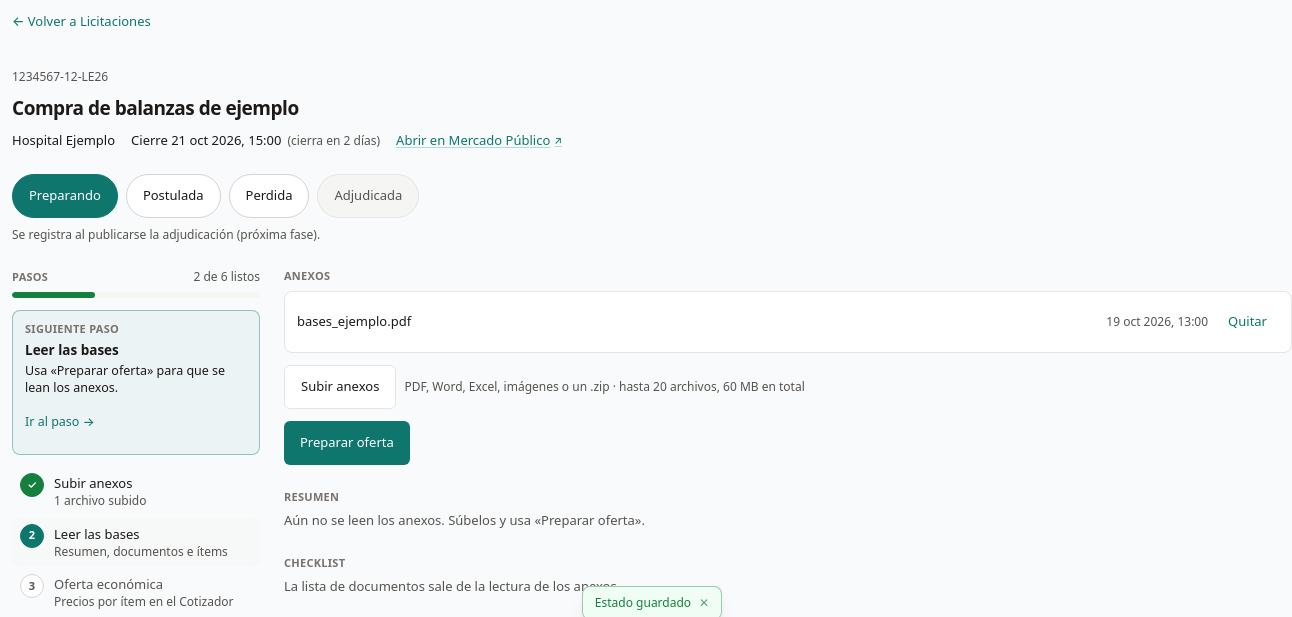
TenderPage — «Quitar anexo» › says a refusal in Spanish and keeps the key only while the removal may have run
Click the button with aria-label "Quitar bases_ejemplo.pdf" at (1248,322), box [1216,300,1279,344]
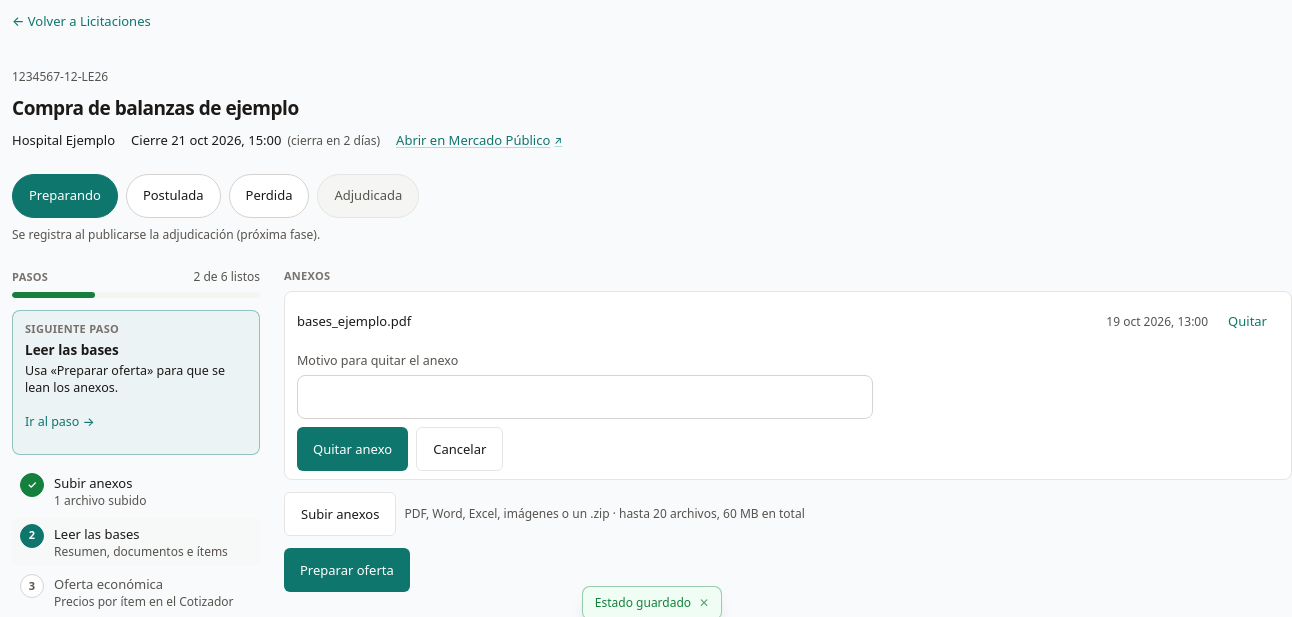
Type "Duplicado" into the field labelled "Motivo para quitar el anexo" at (585,397), box [297,375,873,419]
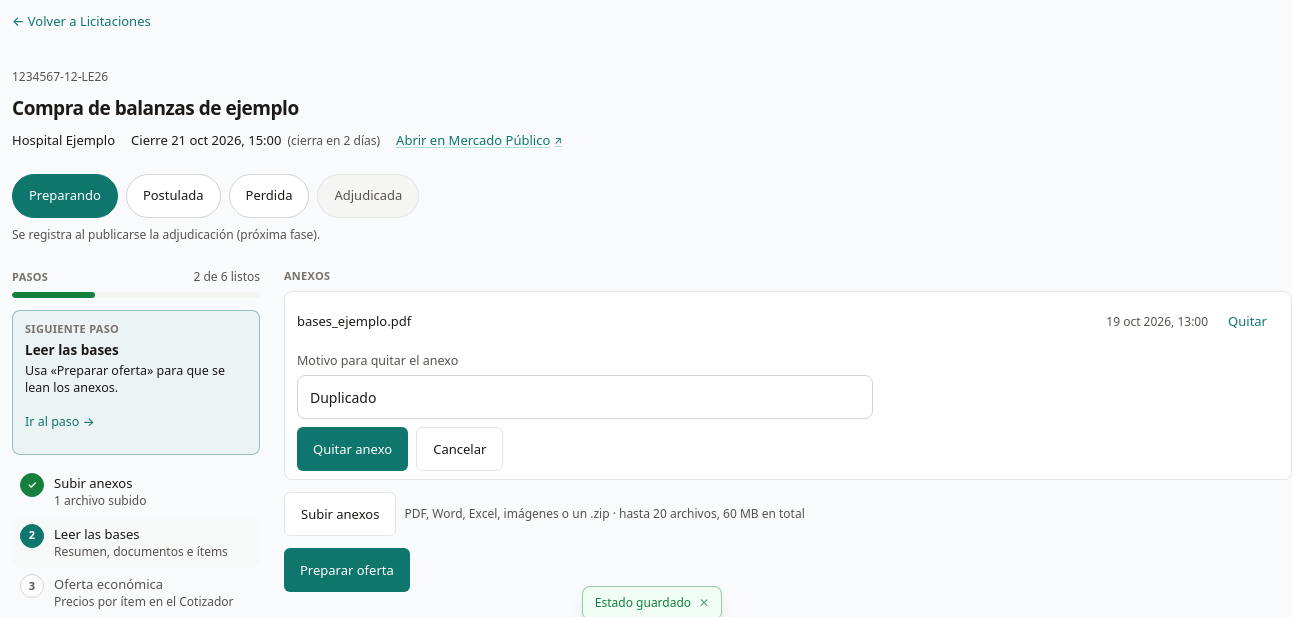
Click the button "Quitar anexo" at (353,449), box [297,427,408,471]
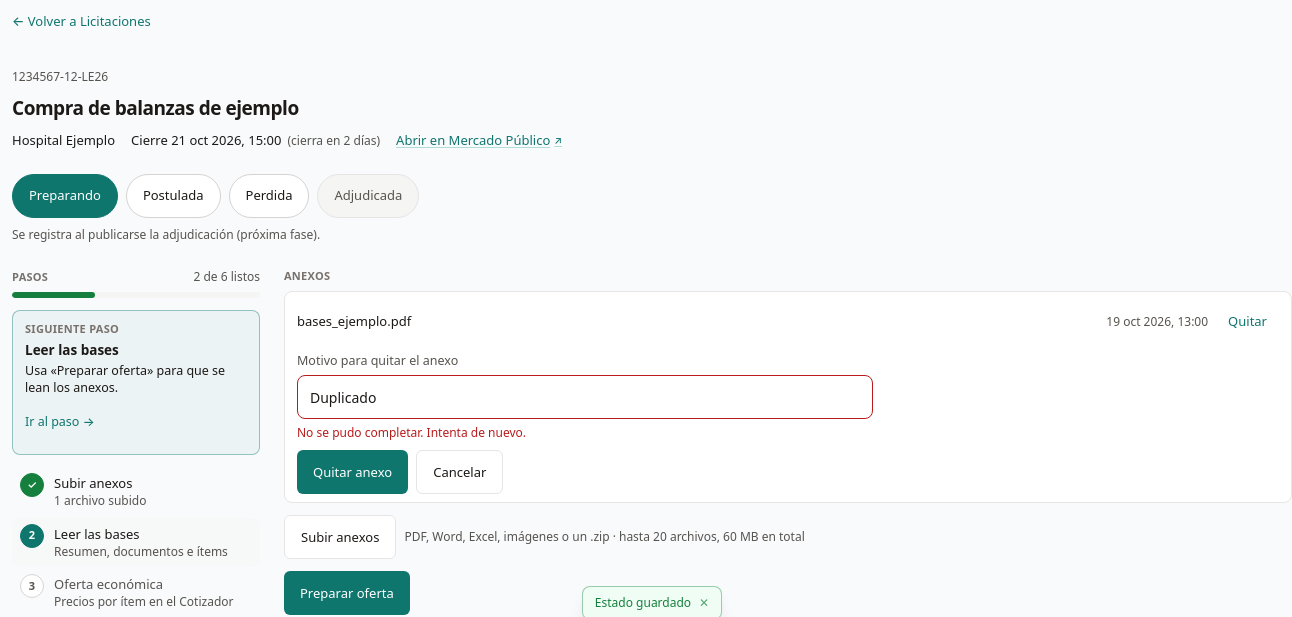
Result: the text "No se pudo completar. Intenta de nuevo." is shown at [297,424,526,441]
Click the button "Quitar anexo" at (353,472), box [297,450,408,494]
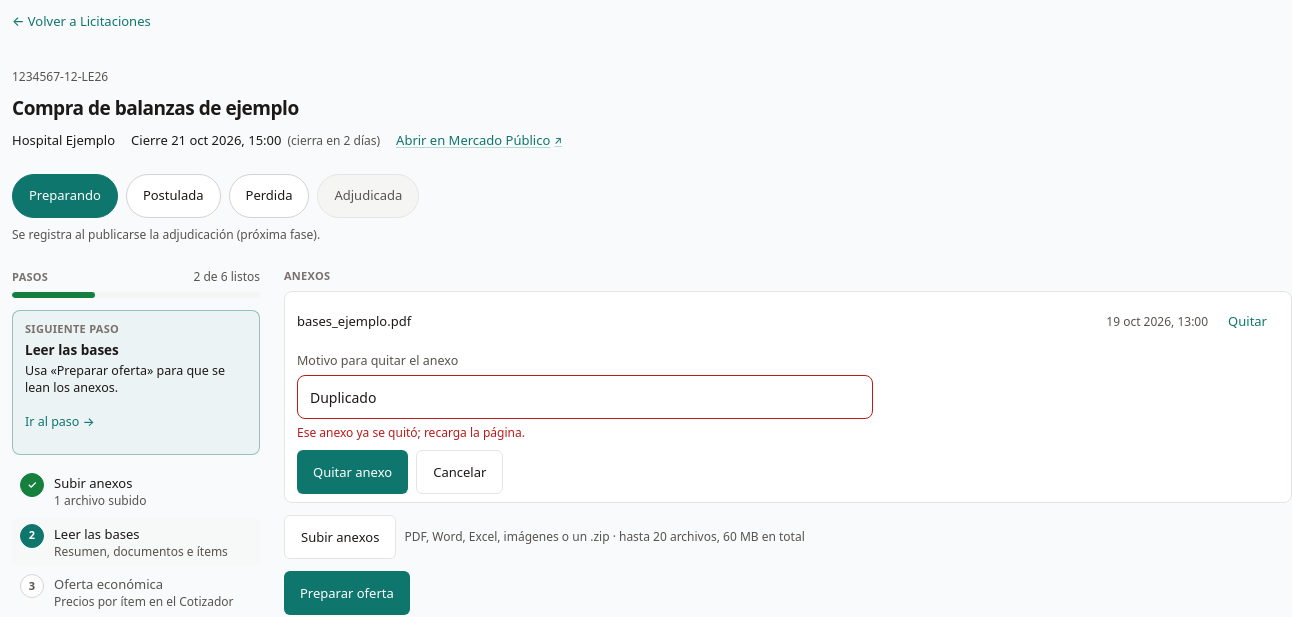
Result: the text "Ese anexo ya se quitó; recarga la página." is shown at [297,424,525,441]
